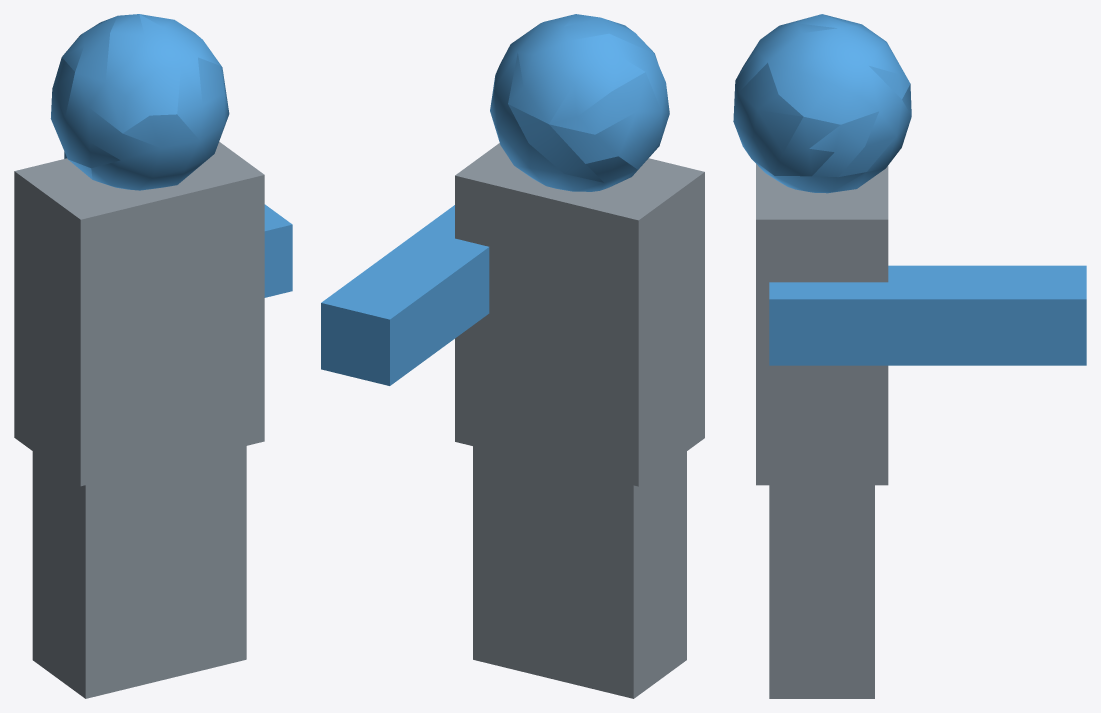
The model's file is AL_Hero_Hart_LOD2.glb.
3 views of the same model, side by side, from view 1: azimuth 30°, elevation 25°; view 2: azimuth 150°, elevation 25°; view 3: azimuth 270°, elevation 25° (orthographic).
Visible parts, largest first — view 1: Head; view 2: Head; view 3: Head.
Boxes of the visible parts, x1,y1,x2,y2 form: Head: (14, 14, 292, 698); Head: (321, 14, 704, 698); Head: (733, 14, 1086, 698).
Bounding box in the file's own units: 61.75 × 172 × 86.81.
